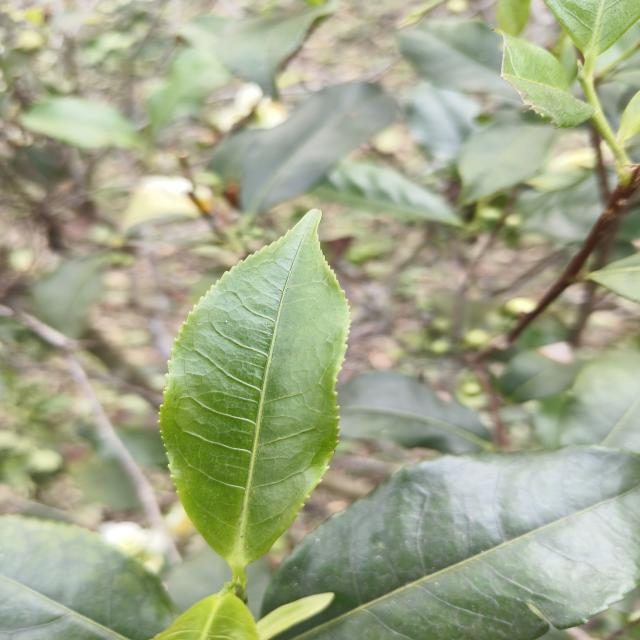Leaf: (264, 446, 640, 640), (160, 210, 349, 593), (0, 515, 179, 640), (241, 82, 397, 212), (338, 371, 492, 454), (214, 0, 337, 98), (397, 20, 519, 101), (315, 161, 461, 226), (501, 34, 595, 128), (560, 350, 640, 452), (458, 122, 554, 205), (148, 46, 231, 134), (21, 96, 139, 149), (545, 0, 640, 65), (32, 255, 105, 339), (405, 82, 480, 163), (154, 591, 259, 640), (499, 342, 581, 402)
